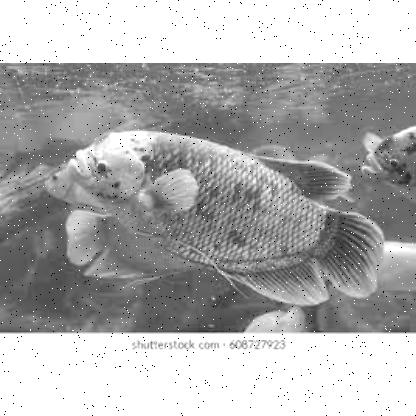gurame: (79, 128, 380, 302), (363, 120, 415, 198)
